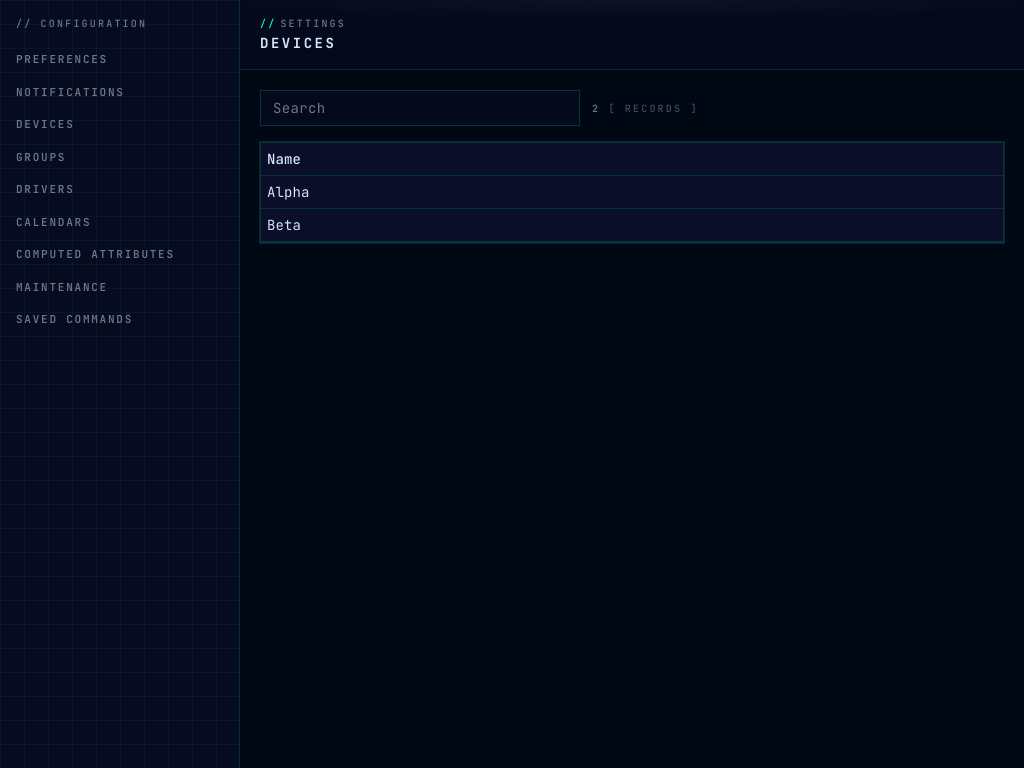
Test: SettingsListPage › filters rows by the keyword search
The width and height of the screenshot is (1024, 768).
Expected: the text "Beta" is shown, x1=261 y1=208 x2=869 y2=242
In the field with placeholder "Search": (420, 108) x1=260 y1=90 x2=580 y2=126, type "alph"
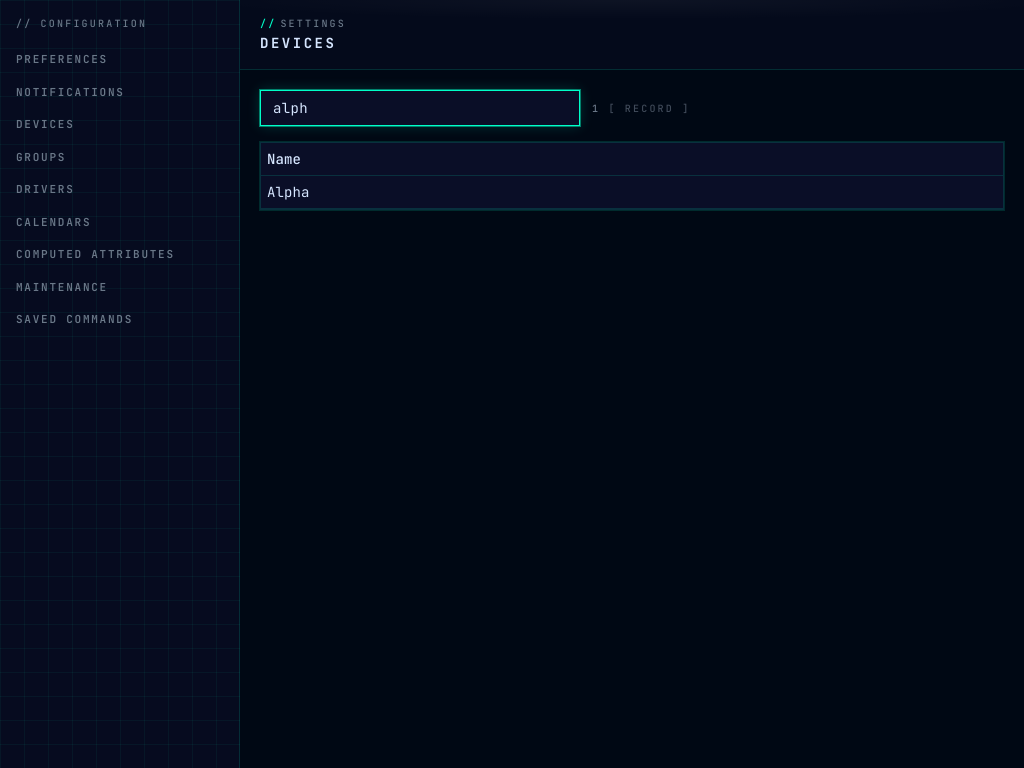
Expected: the text "Alpha" is shown, x1=261 y1=176 x2=869 y2=208
Now the text "Beta" is gone
